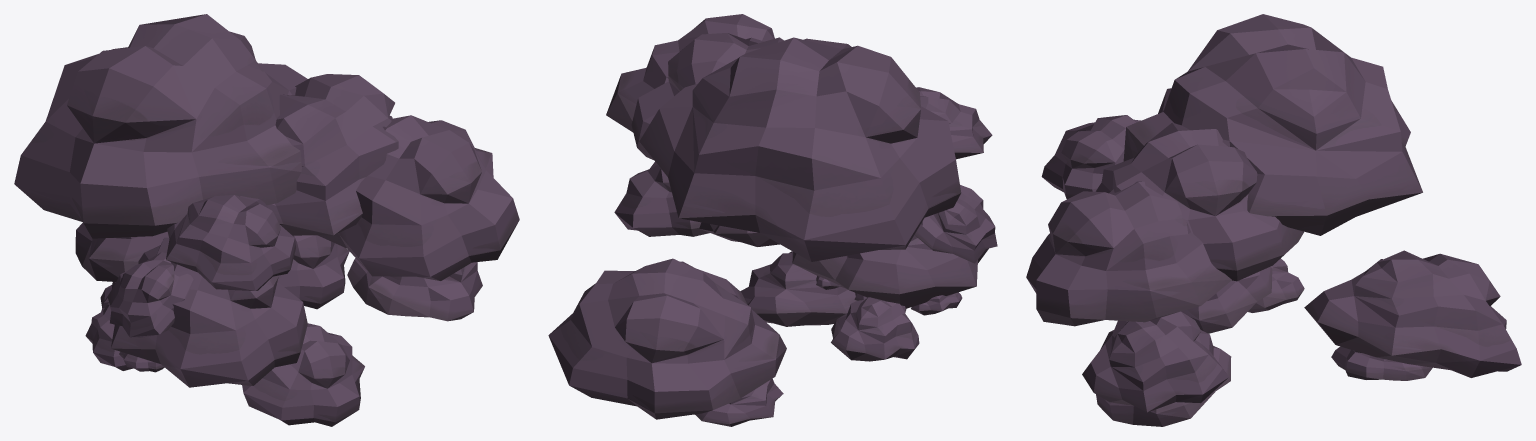
The model's file is tree_leaves_06.fbx.
The picture shows the model from 3 angles, left to right: view 1: azimuth 30°, elevation 25°; view 2: azimuth 150°, elevation 25°; view 3: azimuth 270°, elevation 25°; orthographic projection.
Visible parts, largest first — view 1: leaves_bunch; view 2: leaves_bunch; view 3: leaves_bunch.
Part boxes in pixels (x1=…): leaves_bunch: x1=14, y1=14, x2=519, y2=426; leaves_bunch: x1=548, y1=14, x2=997, y2=426; leaves_bunch: x1=1026, y1=14, x2=1521, y2=426.
Bounding box in the file's own units: 0.0909 × 0.0774 × 0.1033.
1 material, 1 textured.
